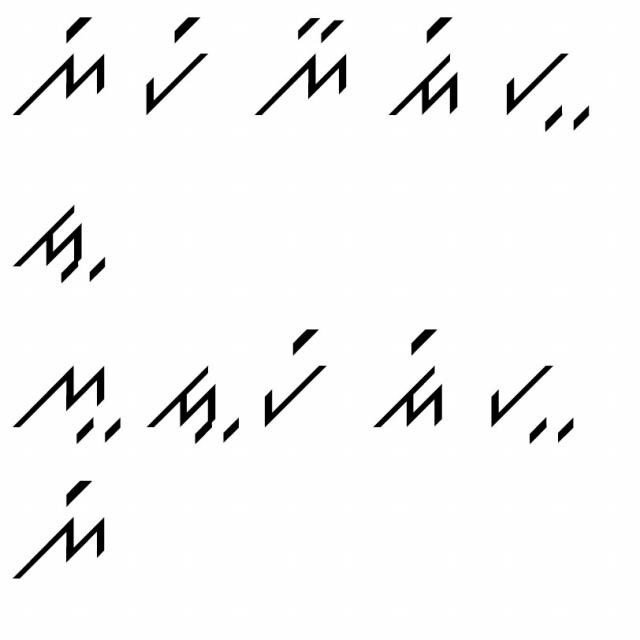dah: (9, 186, 113, 288), (141, 357, 244, 450)
dang: (368, 327, 460, 434), (382, 10, 466, 120)
nah: (12, 352, 130, 449)
nan: (246, 13, 353, 118)
nang: (4, 475, 112, 584), (12, 15, 108, 120)
pah: (493, 39, 598, 134), (482, 351, 578, 446)
pang: (130, 15, 220, 121), (254, 320, 332, 432)
